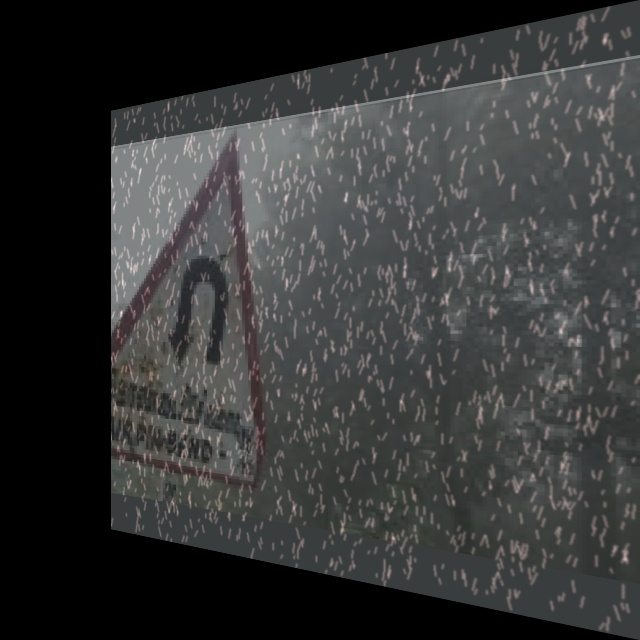Left_Hair_Pin_Bend: (154, 228, 242, 372)
